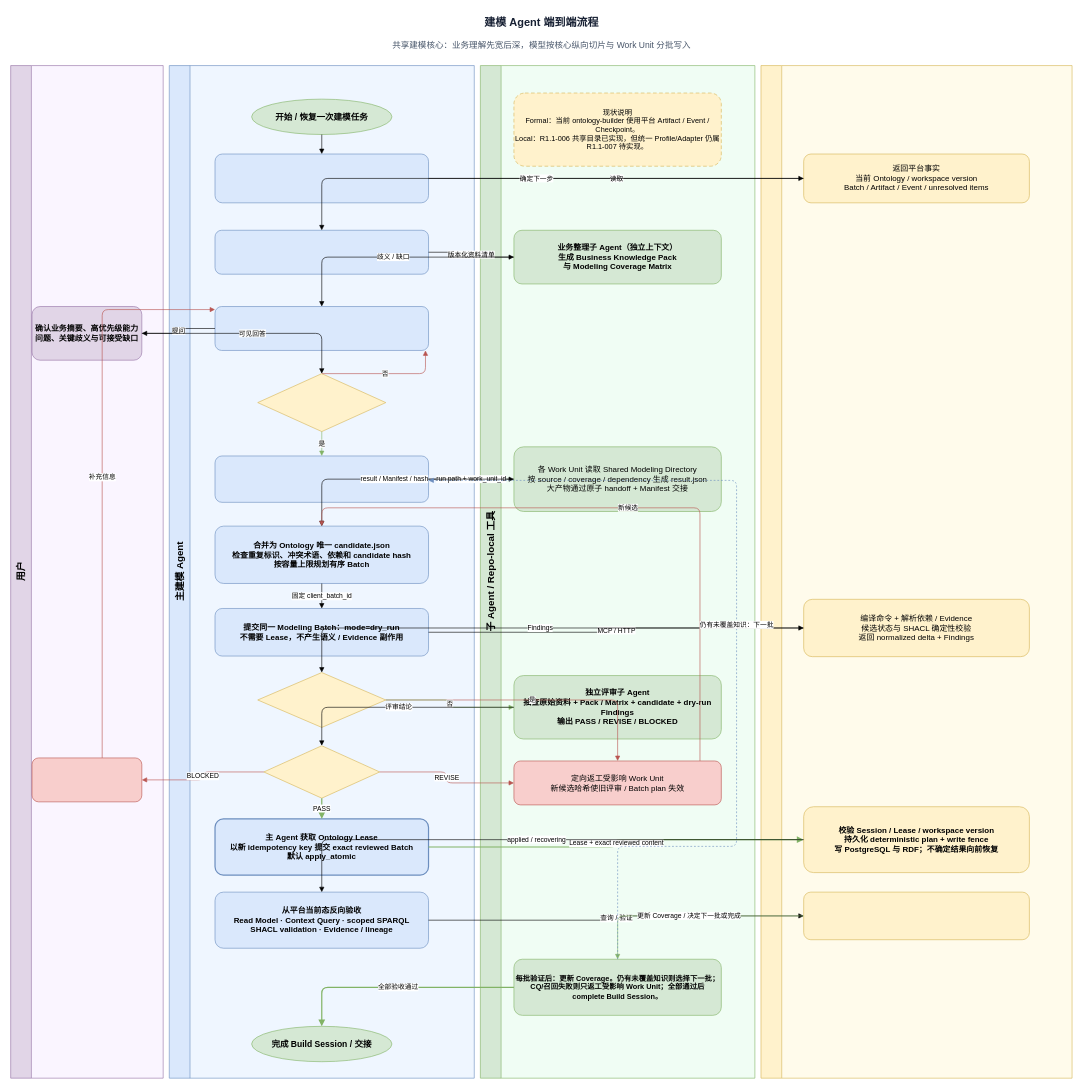
This 1083x1089 diagram has some shape labels left out. Each missing label, with the box of its shape:
OntoWeave: (760, 65, 1072, 1078)
业务 / 语义门禁通过？: (257, 373, 386, 432)
全局扫描资料与业务范围 登记权威性、新鲜度、范围与非目标: (214, 230, 429, 274)
只提出会改变模型语义、范围、优先级或验收的问题（每轮最多 3 个阻塞问题）: (214, 306, 429, 350)
存在 blocking Finding？: (257, 672, 386, 727)
补充资料 / 继续澄清 或明确停止本轮: (31, 757, 142, 802)
评审 PASS？: (263, 745, 380, 798)
读取本地 ledger（如有） 请求 Project Build Context / Session / Modeling Context: (214, 153, 429, 203)
返回结构化语义上下文、查询结果、验证 Findings、证据与来源链: (803, 892, 1029, 940)
选择能回答高优先级 CQ 的核心纵向切片 拆分 Work Unit，固定输入引用与验收合同: (214, 455, 429, 502)
